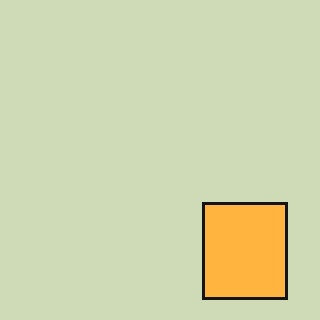square_target: (202, 203, 287, 299)
